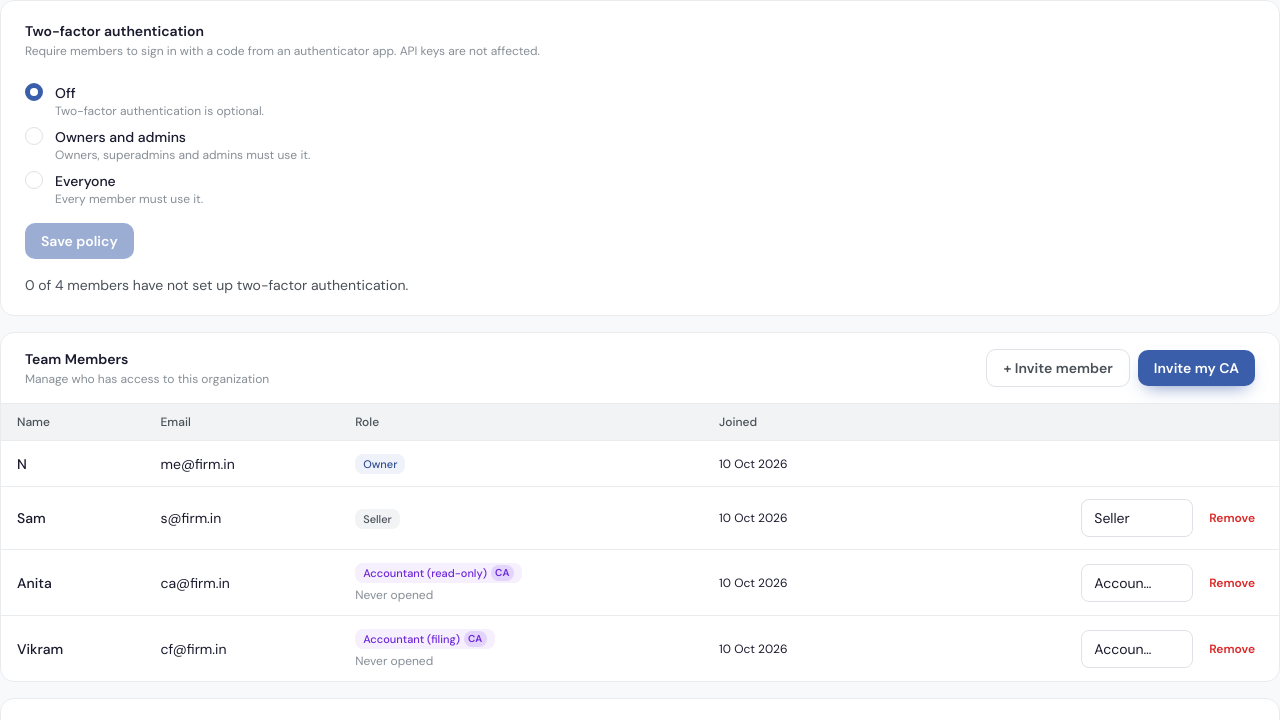
Test: normal invite dialog › has no CA roles in its role list
The image size is (1280, 720).
Step 1. Click the button "+ Invite member" → click(1058, 368), box left=986, top=349, right=1130, bottom=387
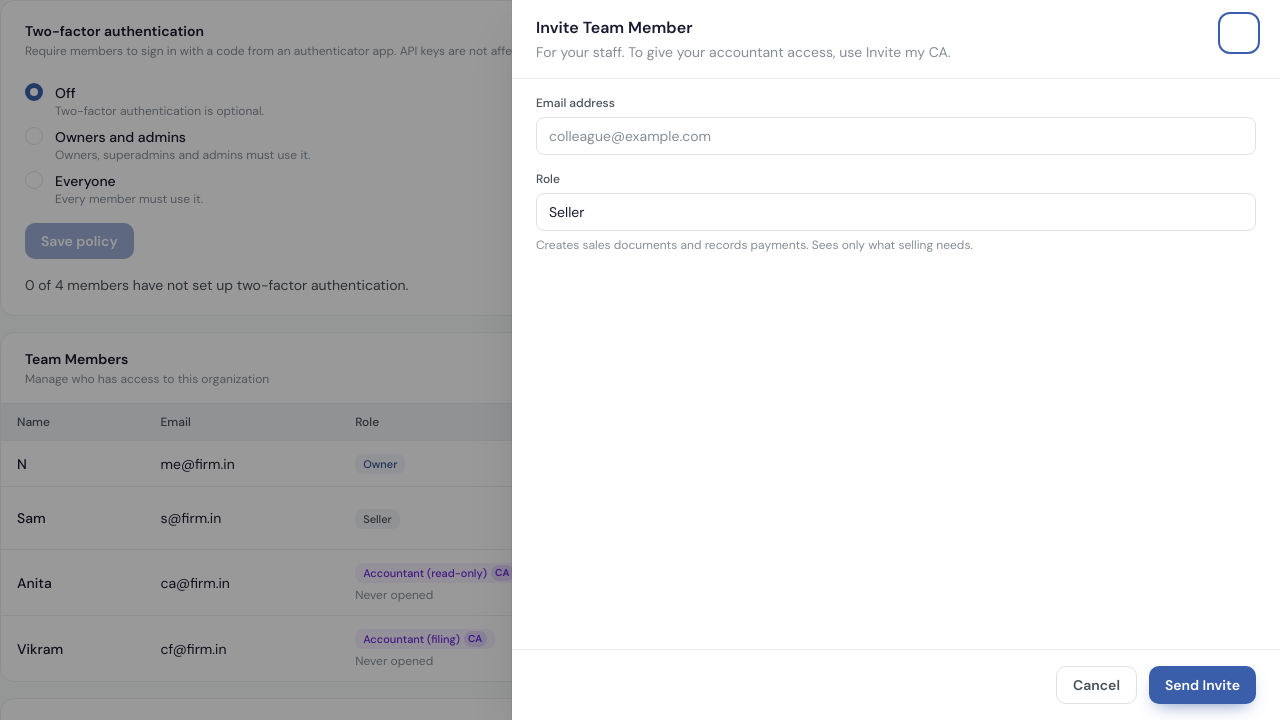
Step 2. Click the dropdown → click(567, 212), box left=536, top=193, right=1256, bottom=231
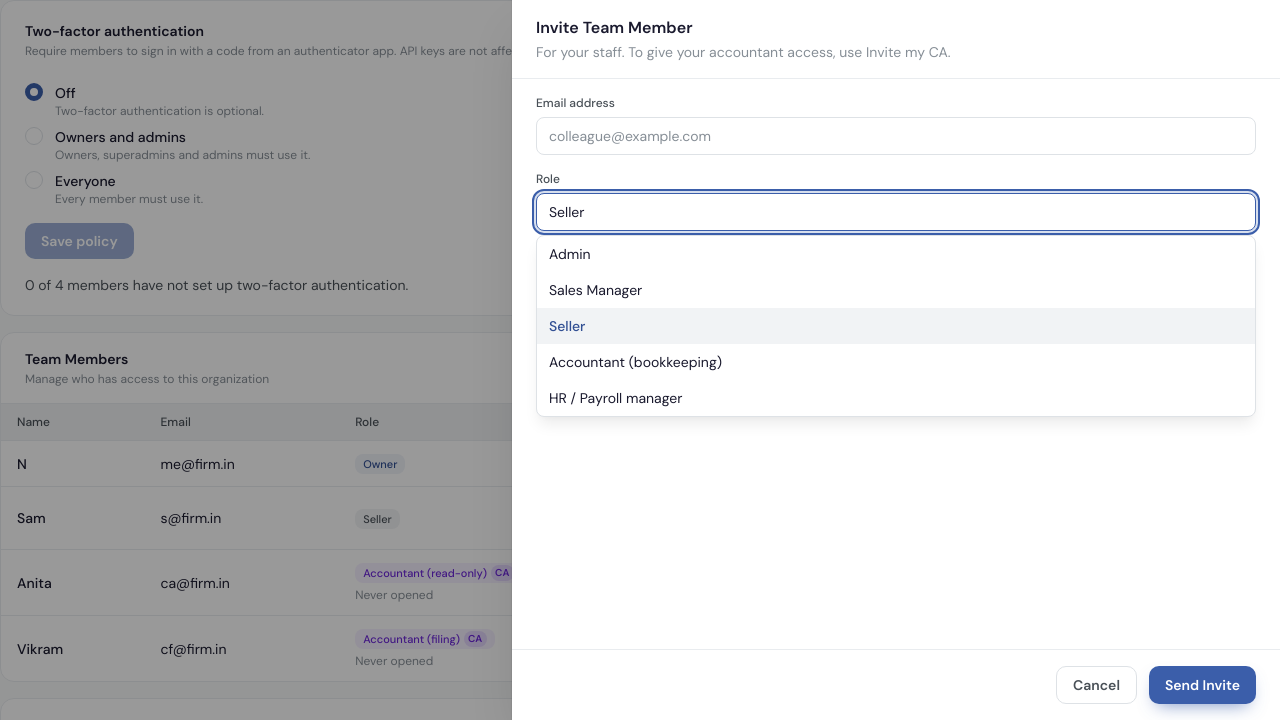
Expected: the option "Accountant (bookkeeping)" is shown, left=549, top=353, right=722, bottom=371
